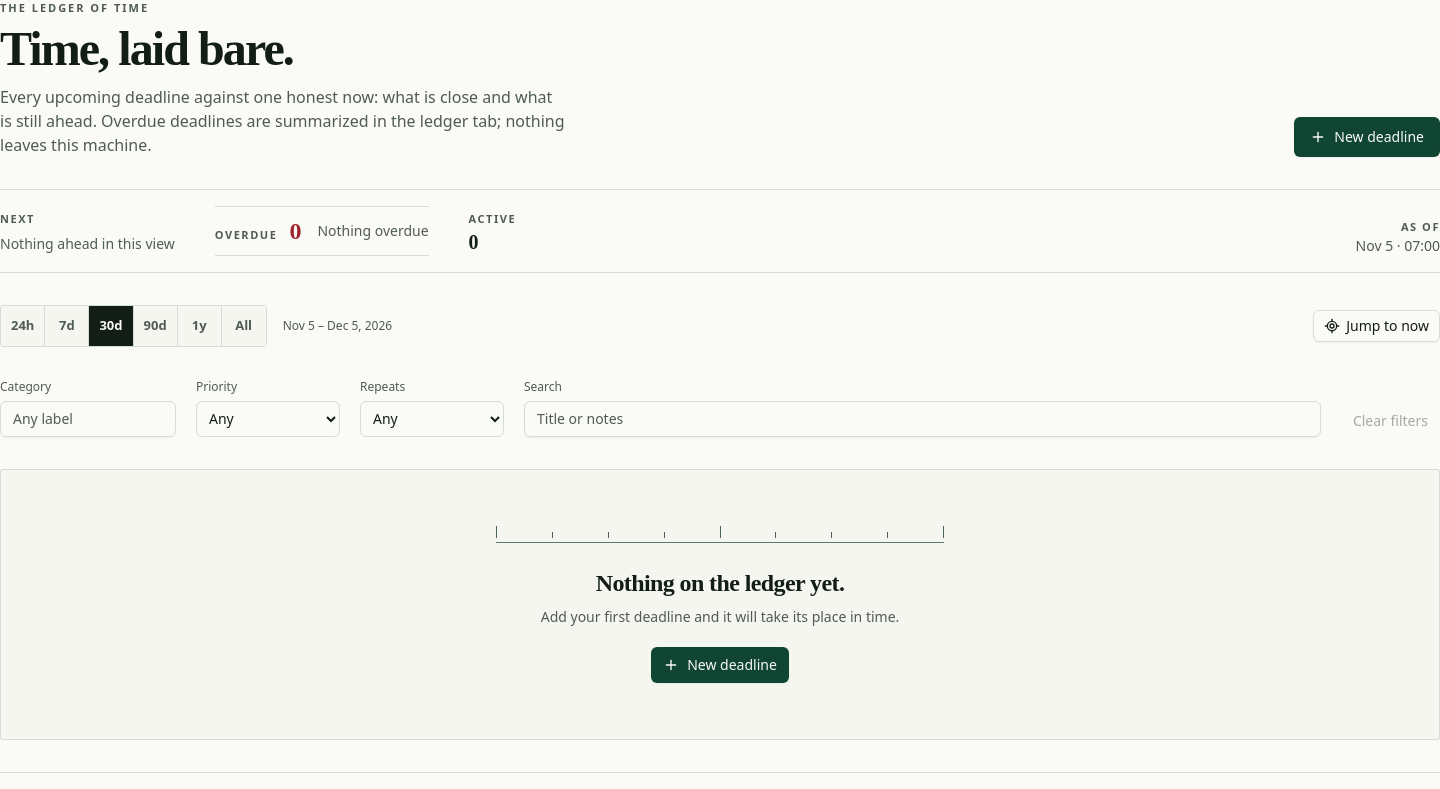
Test case: TimelinePage US1 baseline › refreshes the timeline after a create without a manual reload
Click the button "New deadline" below "Nothing on the ledger yet." at [720, 664], box [651,646,789,682]
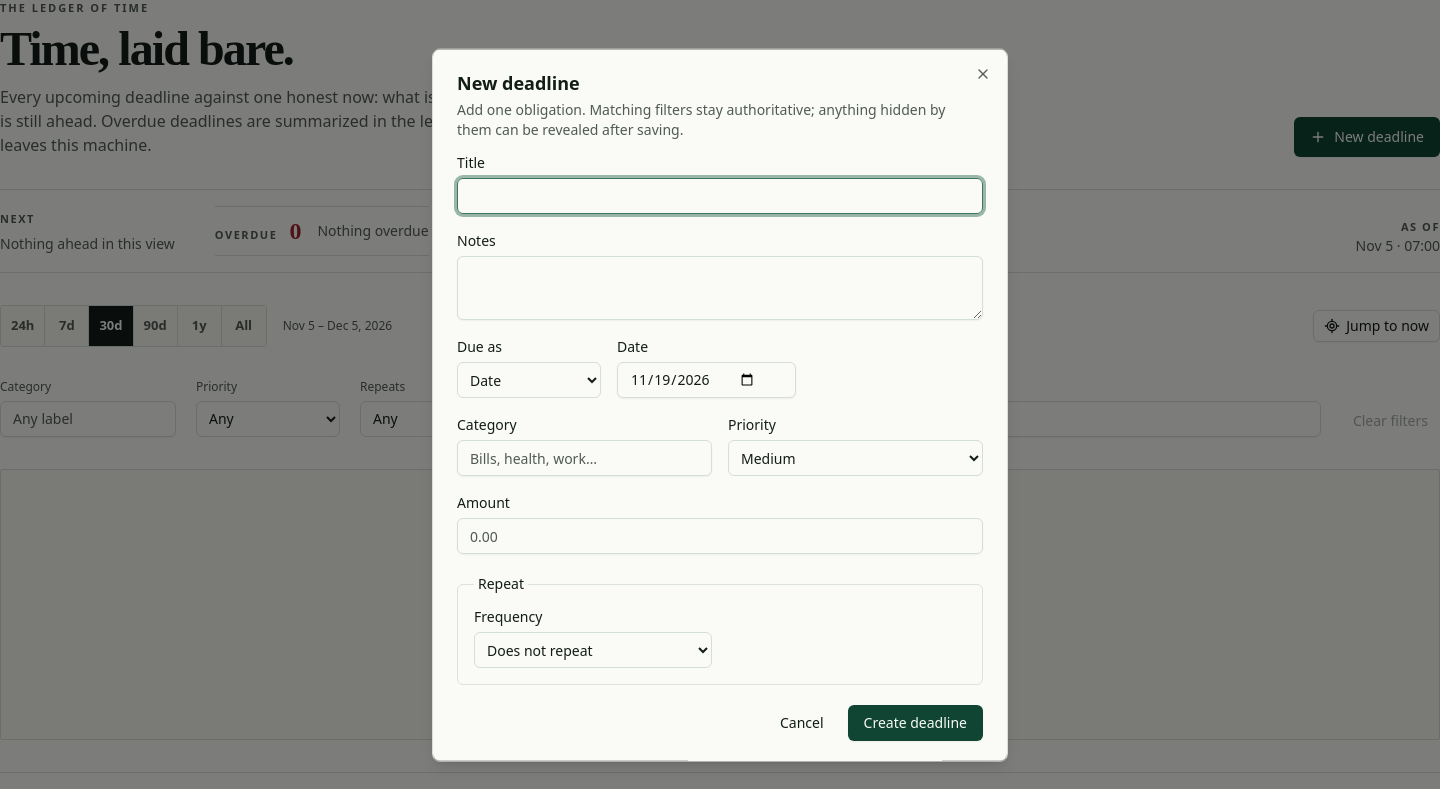
Type "Fresh ledger entry" into the field labelled "Title" at [720, 196], box [457,178,983,214]
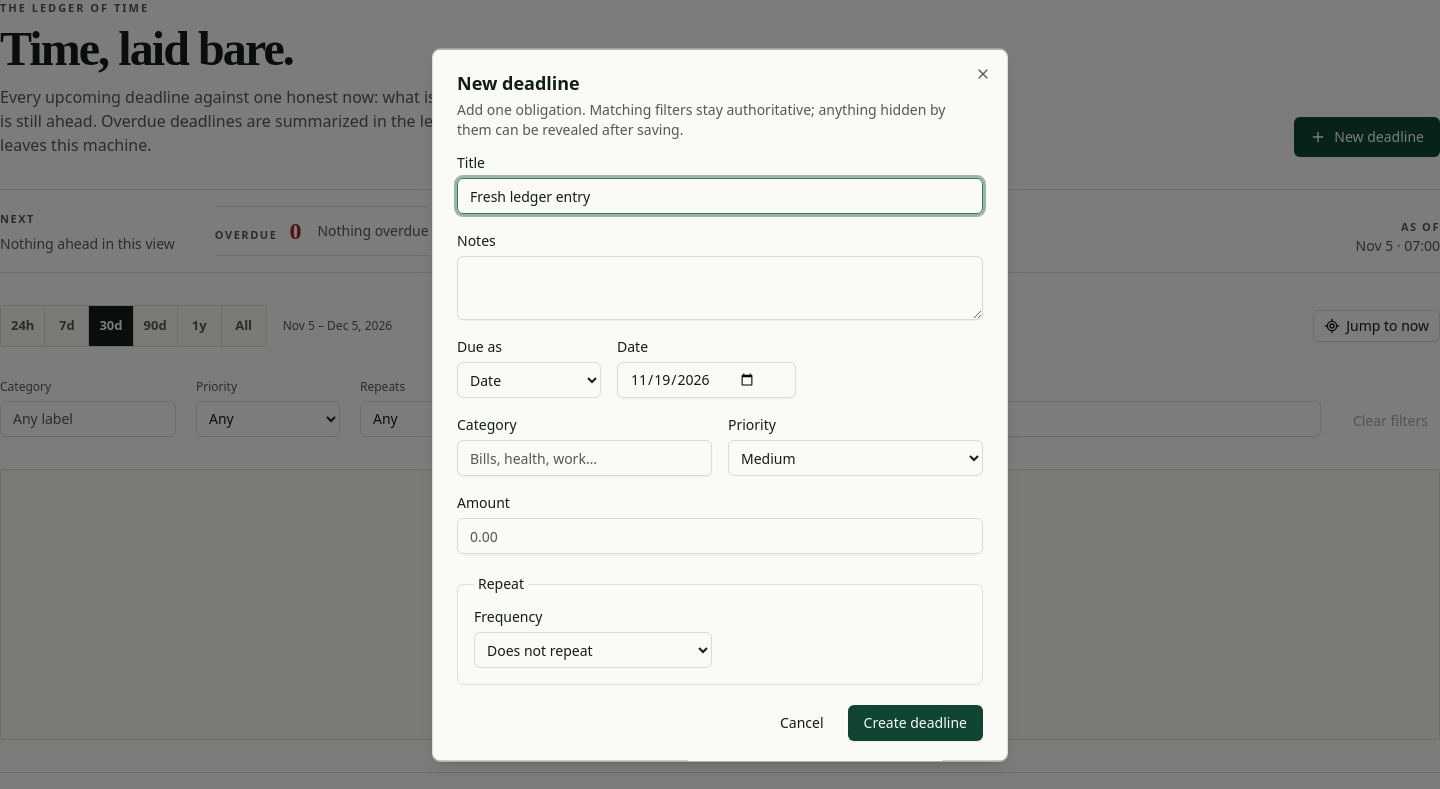
Click the button "Create deadline" at [915, 723], box [848,705,983,741]
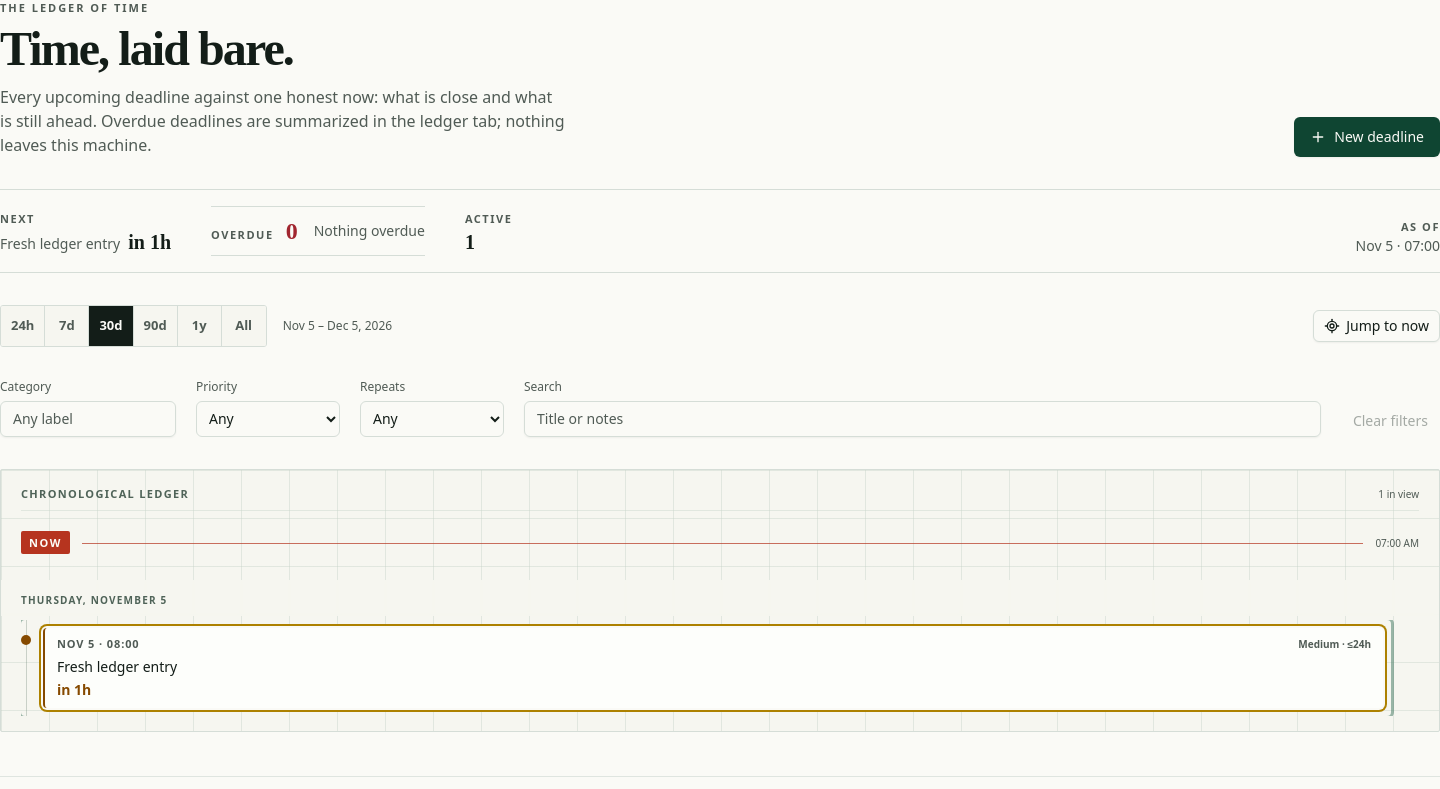
Check: the text "Fresh ledger entry" below "Thursday, November 5" is shown, box [57,656,177,675]
